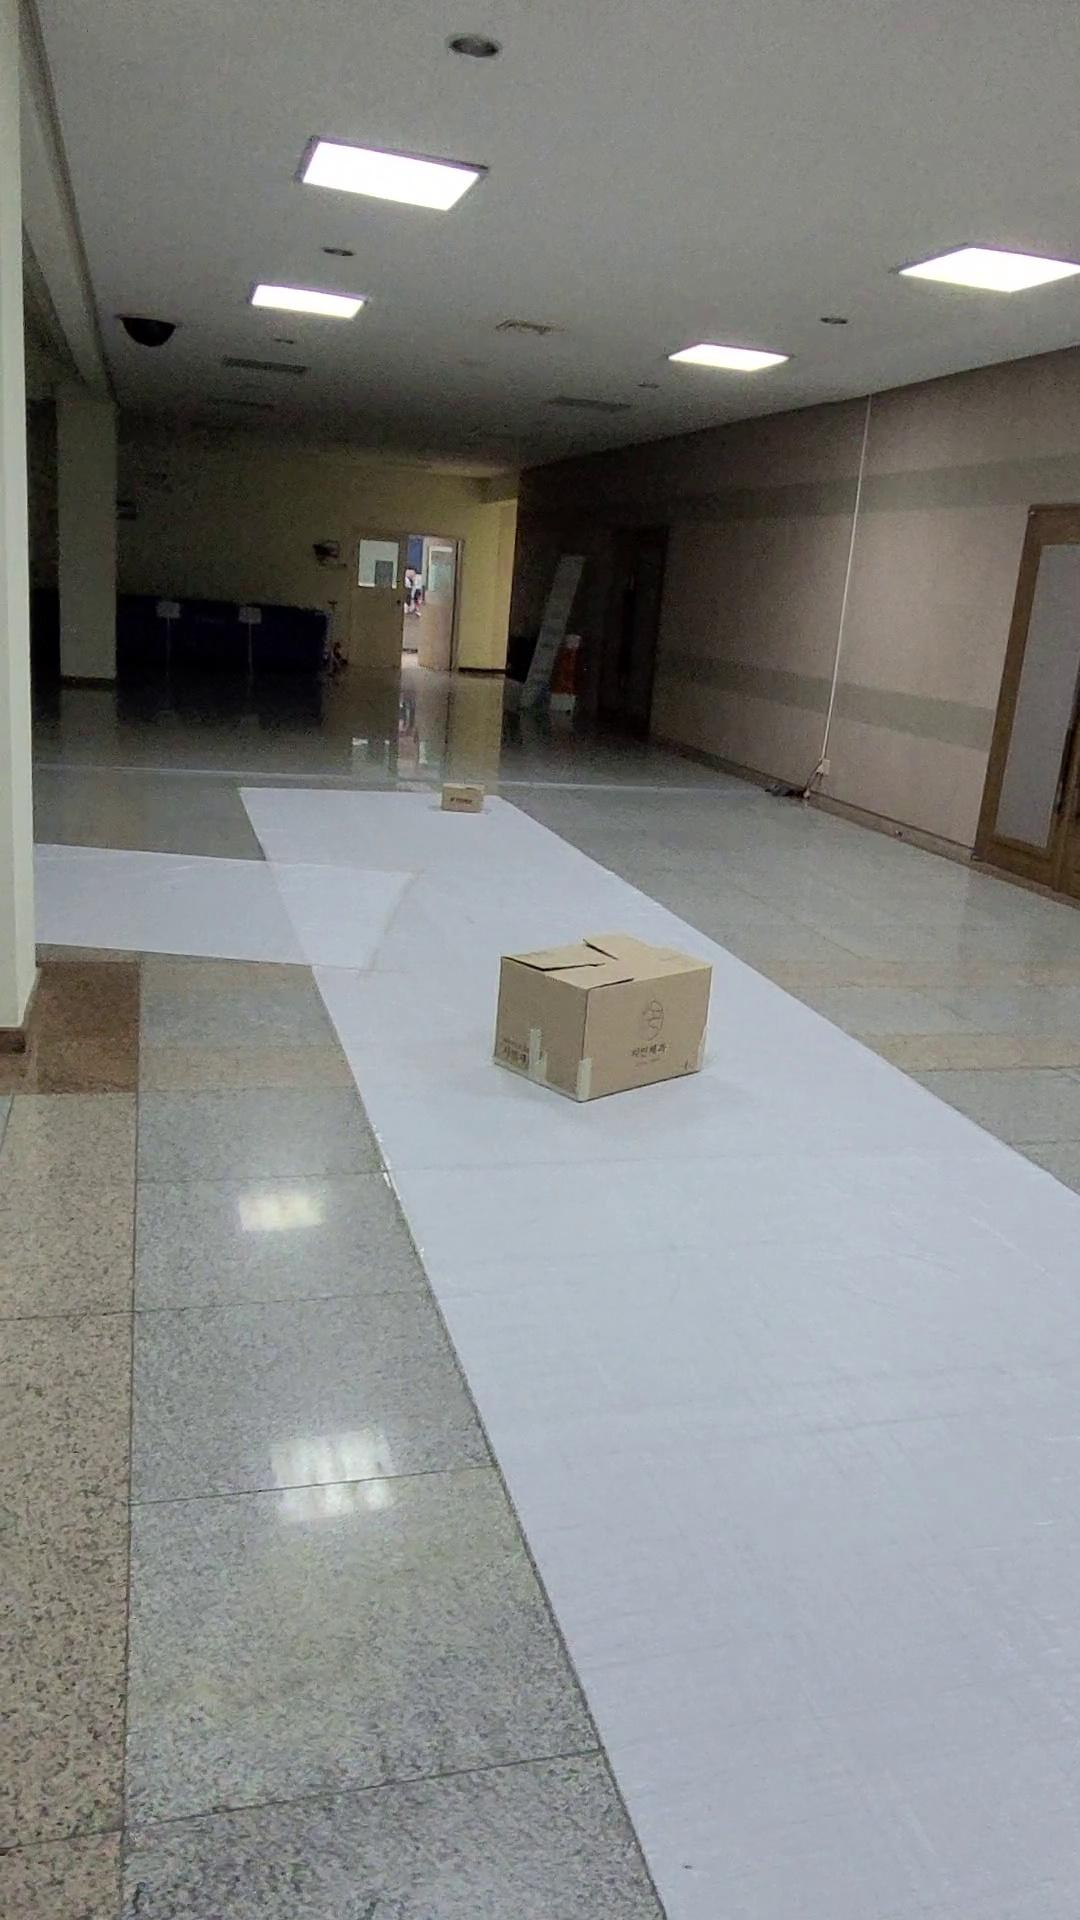Box: (483, 920, 727, 1106), (429, 773, 497, 820)
